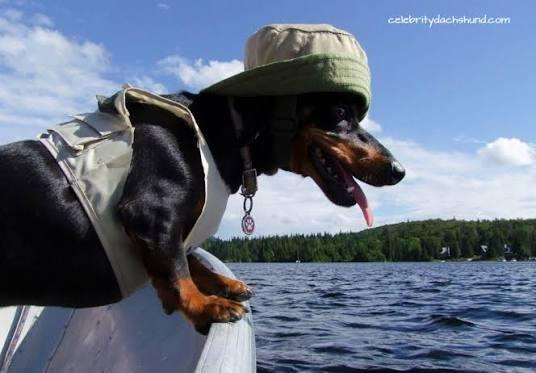adult_dog: (1, 89, 406, 333)
